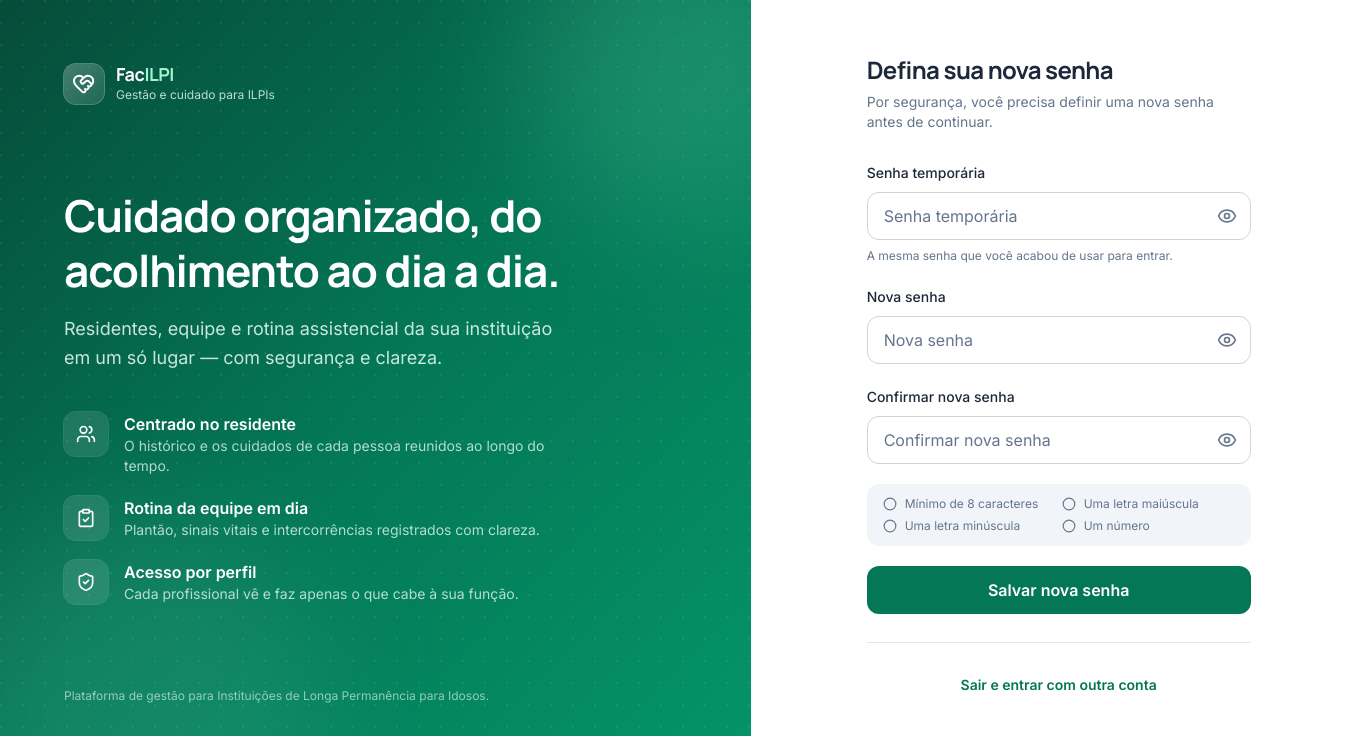
Test case: FirstAccess — troca obrigatória › 6. valida confirmação de senha
In the password field with placeholder "Senha temporária": (1059, 216) [867,192,1251,240], type "Temp1234"
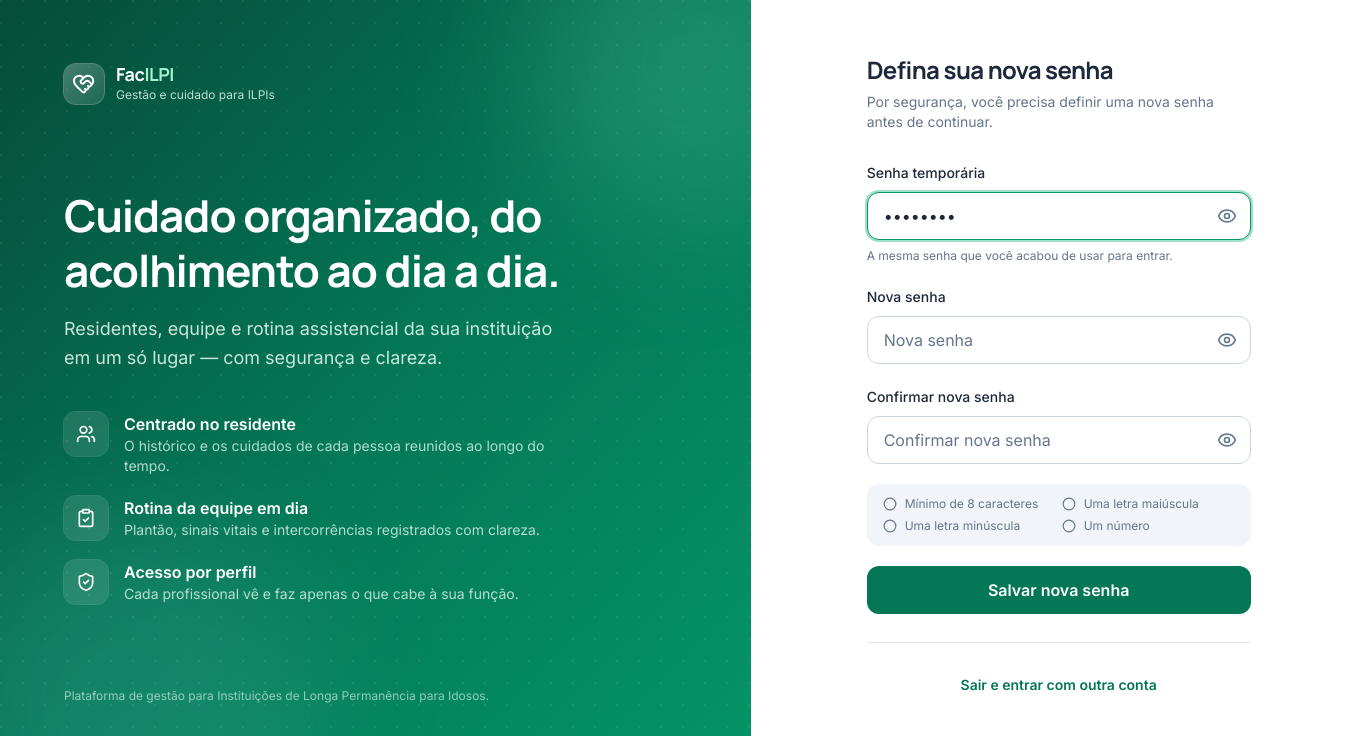
In the password field with placeholder "Nova senha": (1059, 340) [867,316,1251,364], type "Nova1234"
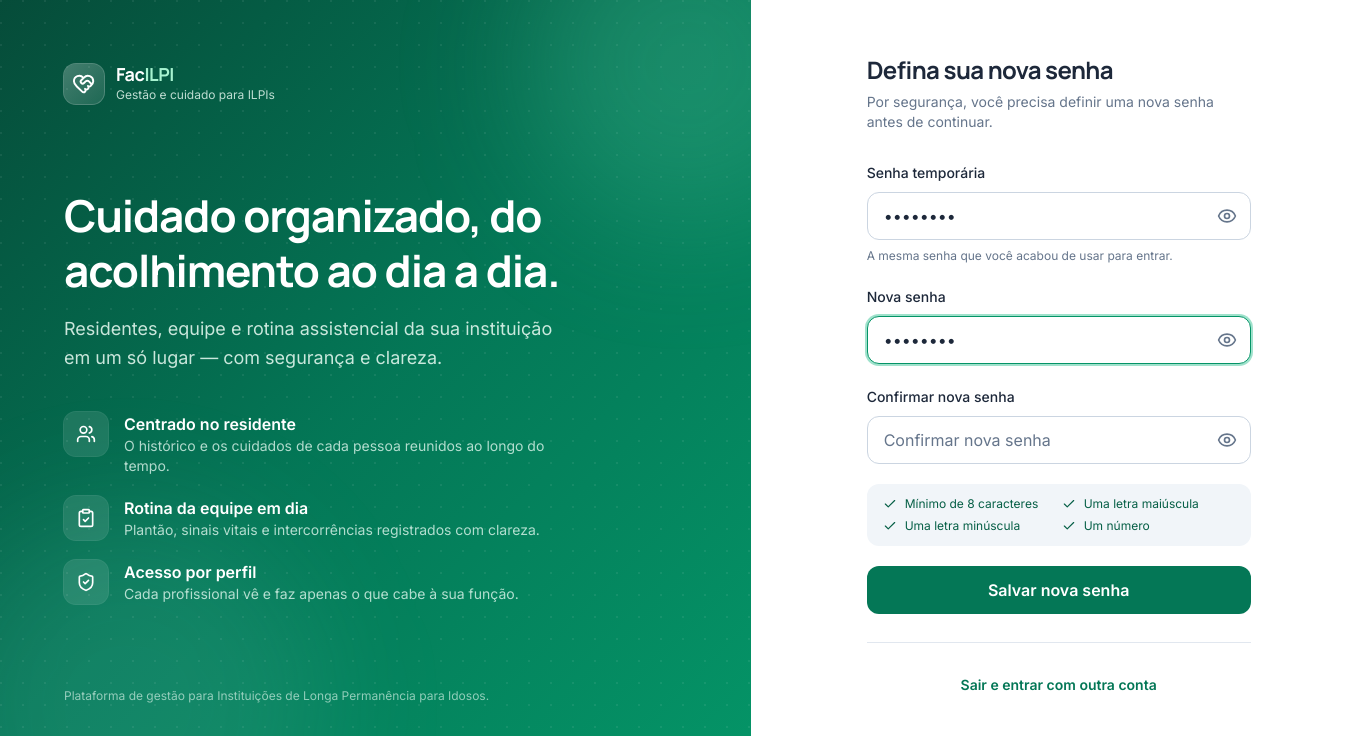
In the password field with placeholder "Confirmar nova senha": (1059, 440) [867,416,1251,464], type "Outra9999"
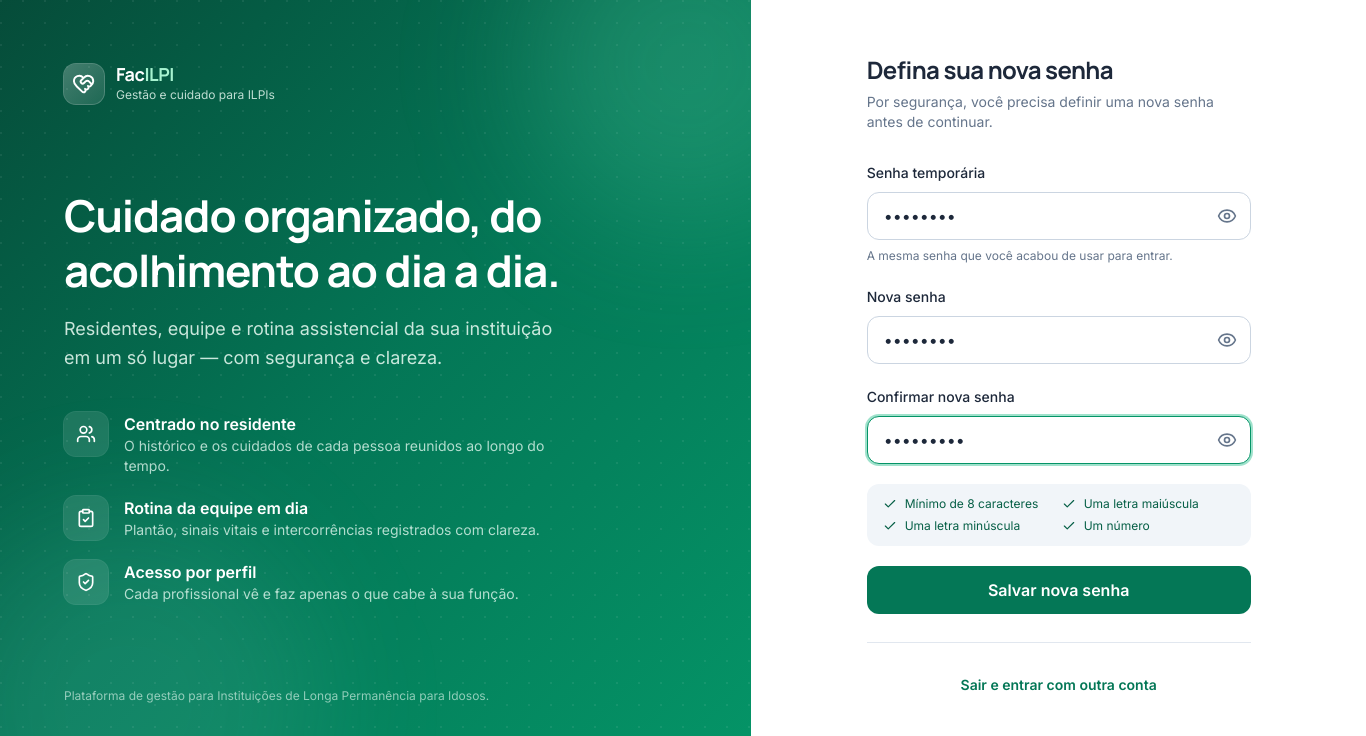
Click the button "Salvar nova senha": (1059, 590) [867,566,1251,614]
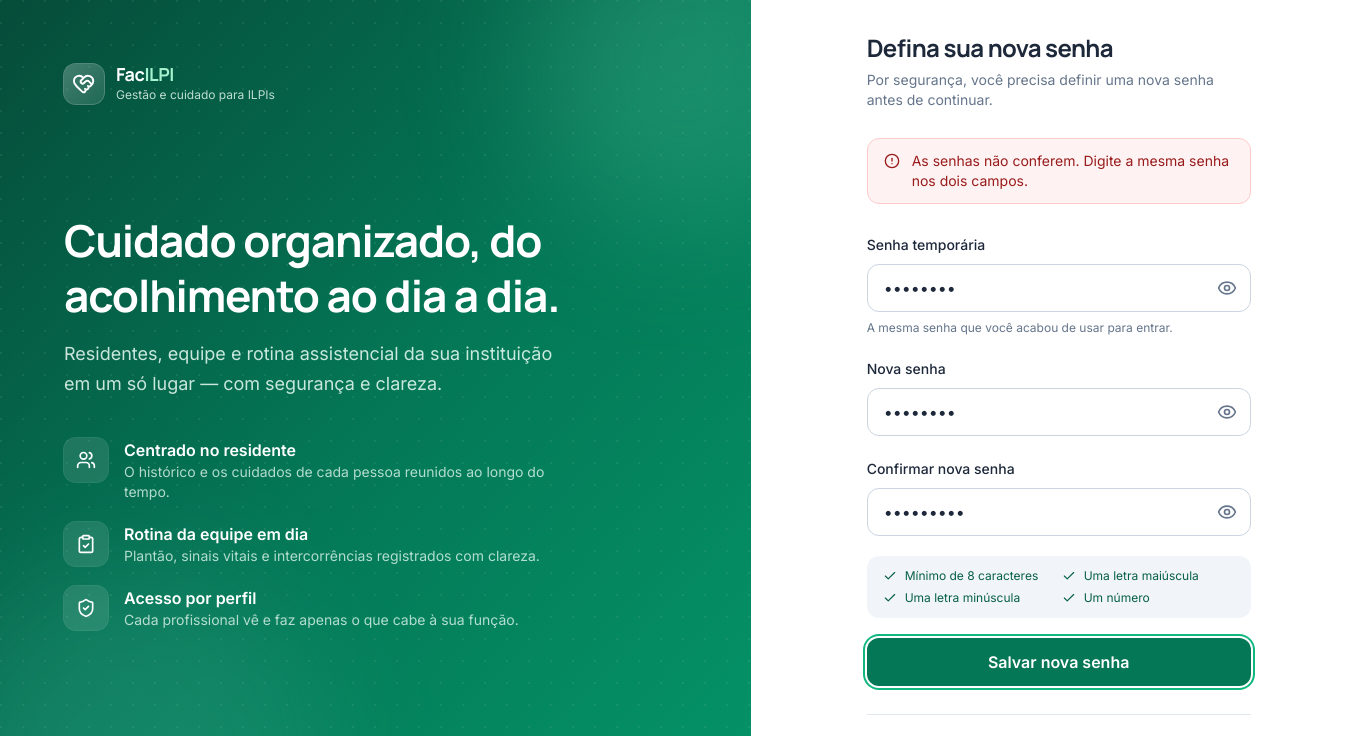
Expected: the text "não conferem" is shown, [912,152,1229,189]
